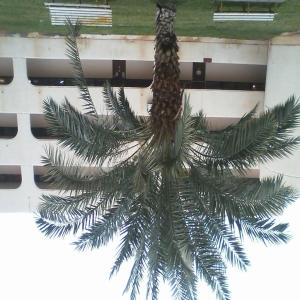palm tree: (32, 2, 299, 299)
